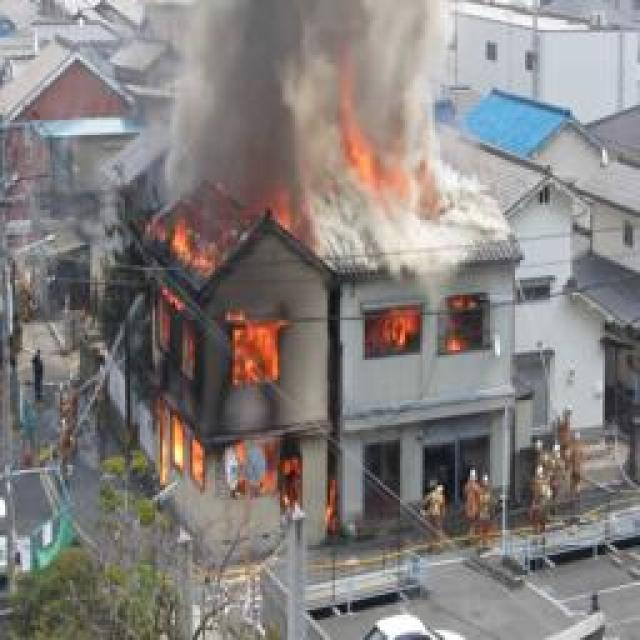Fire: (152, 197, 307, 519), (370, 295, 490, 353), (349, 130, 413, 198)
